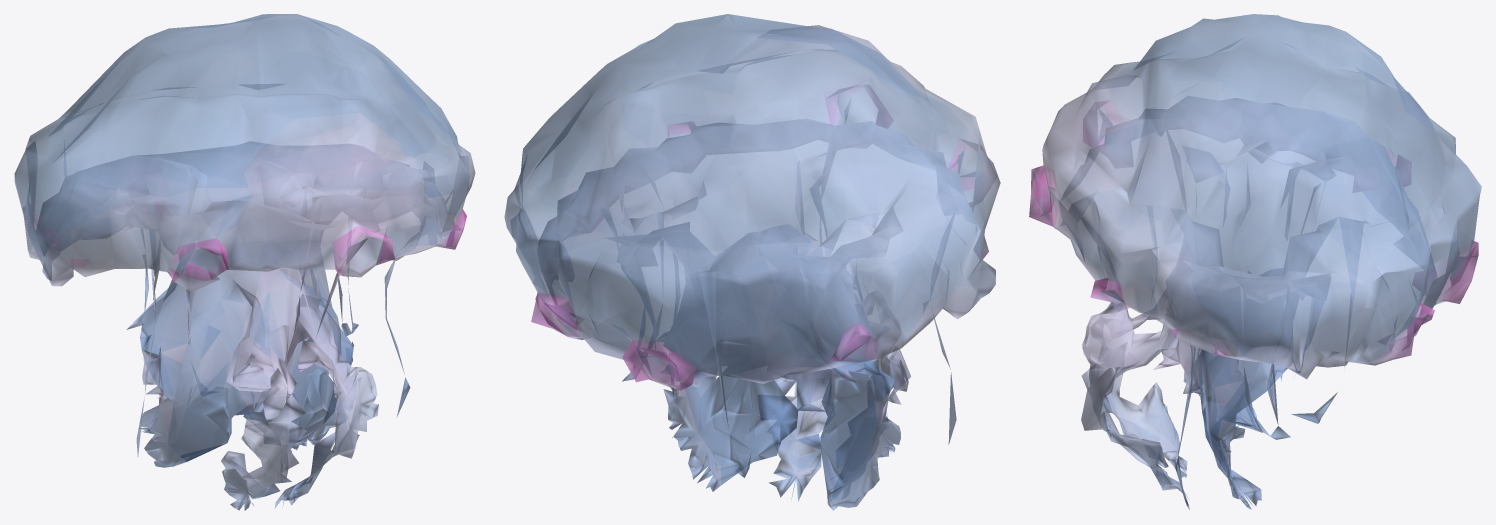
The model's file is jelly.glb.
3 views of the same model, side by side, from view 1: azimuth 30°, elevation 25°; view 2: azimuth 150°, elevation 25°; view 3: azimuth 270°, elevation 25° (orthographic). The views are drawn at different scales.
Parts seen in each view (by area): view 1: geometry_0; view 2: geometry_0; view 3: geometry_0.
Part boxes in pixels (x1,y1,x2,y2): geometry_0: (14,14,475,510); geometry_0: (504,14,1000,510); geometry_0: (1029,14,1481,509).
Bounding box in the file's own units: 0.08 × 0.082 × 0.0719.
Materials: 1 (1 with a texture image).
